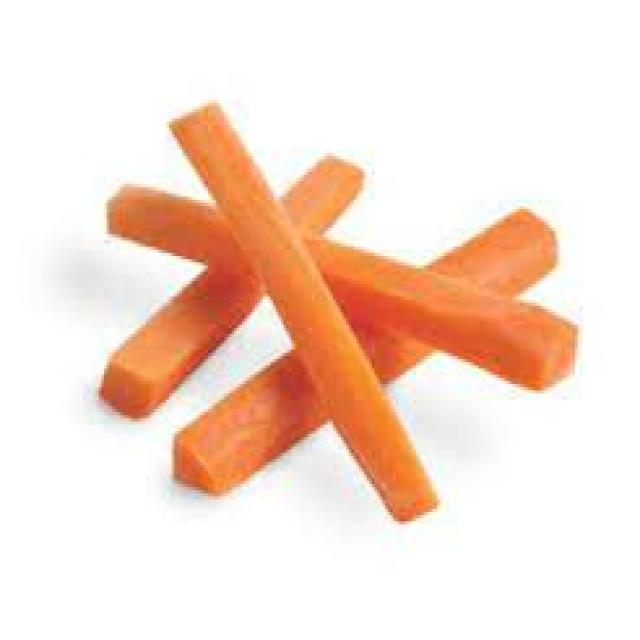carrot: (173, 103, 440, 521), (307, 237, 580, 389), (101, 187, 258, 417), (174, 350, 330, 496), (406, 209, 559, 300), (284, 156, 364, 234), (351, 315, 434, 384)
